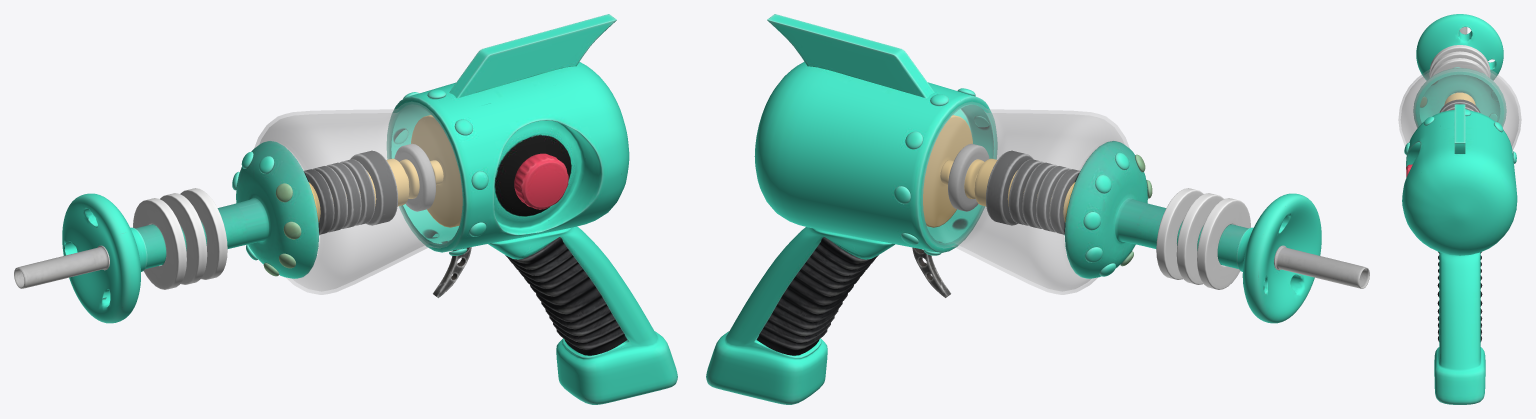
File: laser.glb
The picture shows the model from 3 angles, left to right: view 1: azimuth 30°, elevation 25°; view 2: azimuth 150°, elevation 25°; view 3: azimuth 270°, elevation 25°; orthographic projection. The views are drawn at different scales.
Visible parts, largest first — view 1: Gun, Vidrio, Mango, Dial, Gatillo; view 2: Gun, Vidrio, Mango, Gatillo; view 3: Gun, Vidrio, Mango.
Boxes of the visible parts, x1,y1,x2,y2 form: Gun: (14, 14, 677, 404); Vidrio: (254, 102, 462, 294); Mango: (505, 237, 627, 355); Dial: (514, 153, 568, 209); Gatillo: (433, 247, 471, 297); Gun: (706, 14, 1369, 404); Vidrio: (921, 102, 1129, 294); Mango: (756, 237, 878, 355); Gatillo: (912, 247, 950, 297); Gun: (1402, 14, 1517, 404); Vidrio: (1398, 62, 1521, 149); Mango: (1437, 251, 1482, 341).
Bounding box in the file's own units: 40 × 21.77 × 9.91.
2 materials, 1 textured.
